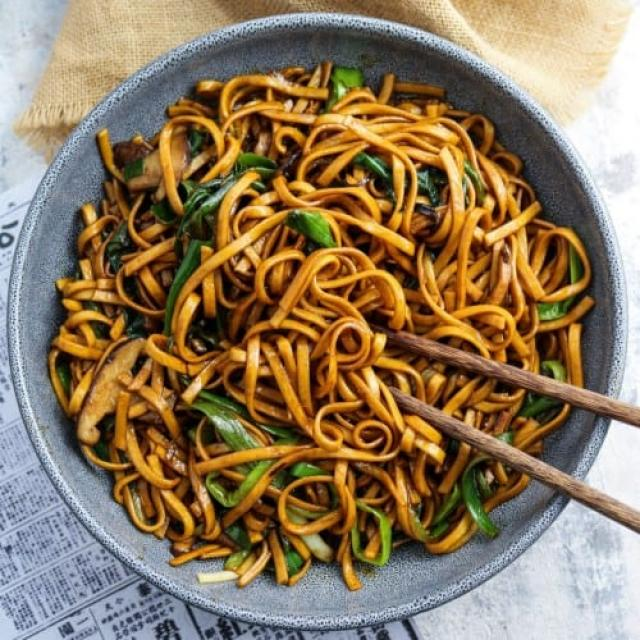Noodle: (47, 54, 593, 568)
